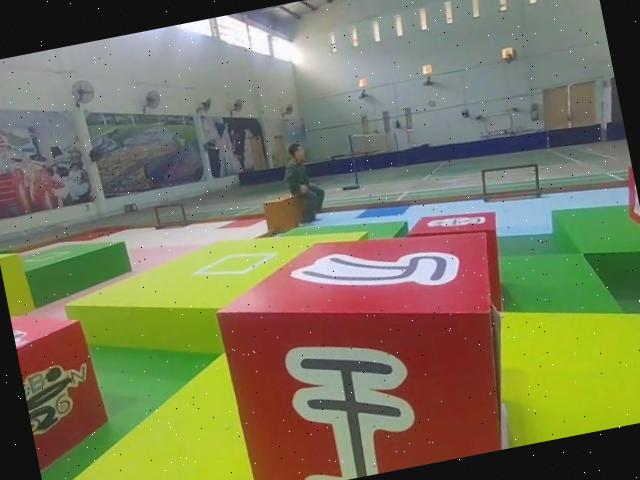R1: (8, 297, 118, 472)
R2 Fake: (201, 205, 528, 480)
R2 Real: (621, 165, 640, 232)
